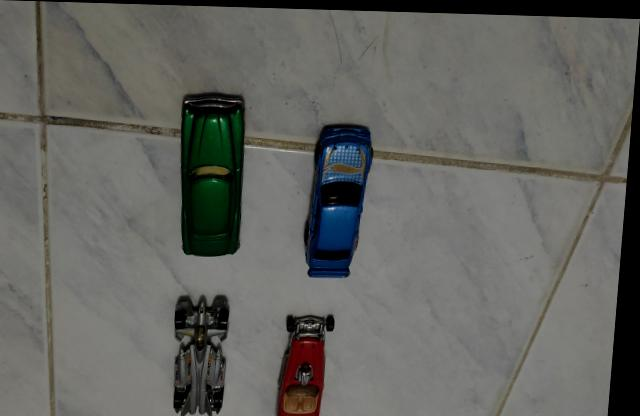03_V8: (283, 311, 340, 416)
04_MERZEDES: (307, 120, 377, 277)
05_DC121: (179, 291, 237, 416)
06_MASERATI: (182, 89, 249, 255)
